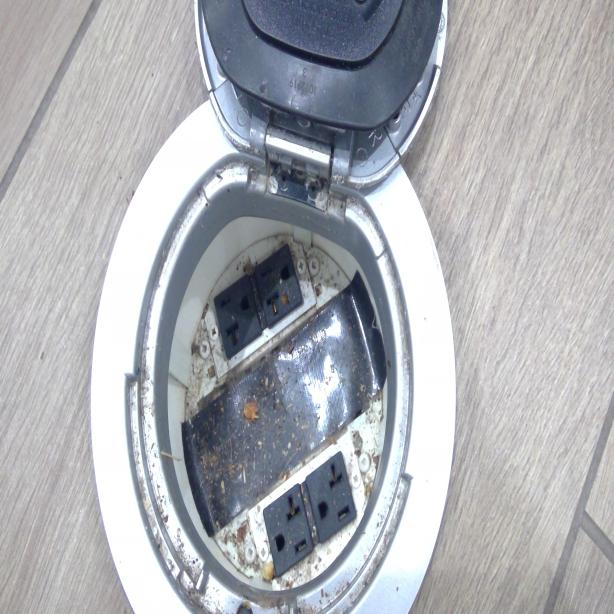typeb: (262, 490, 308, 566), (312, 463, 350, 531), (255, 258, 298, 316), (216, 293, 252, 350)
